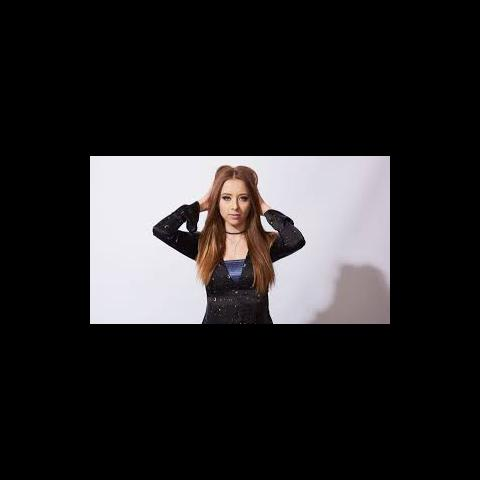opened: (216, 190, 250, 204)
